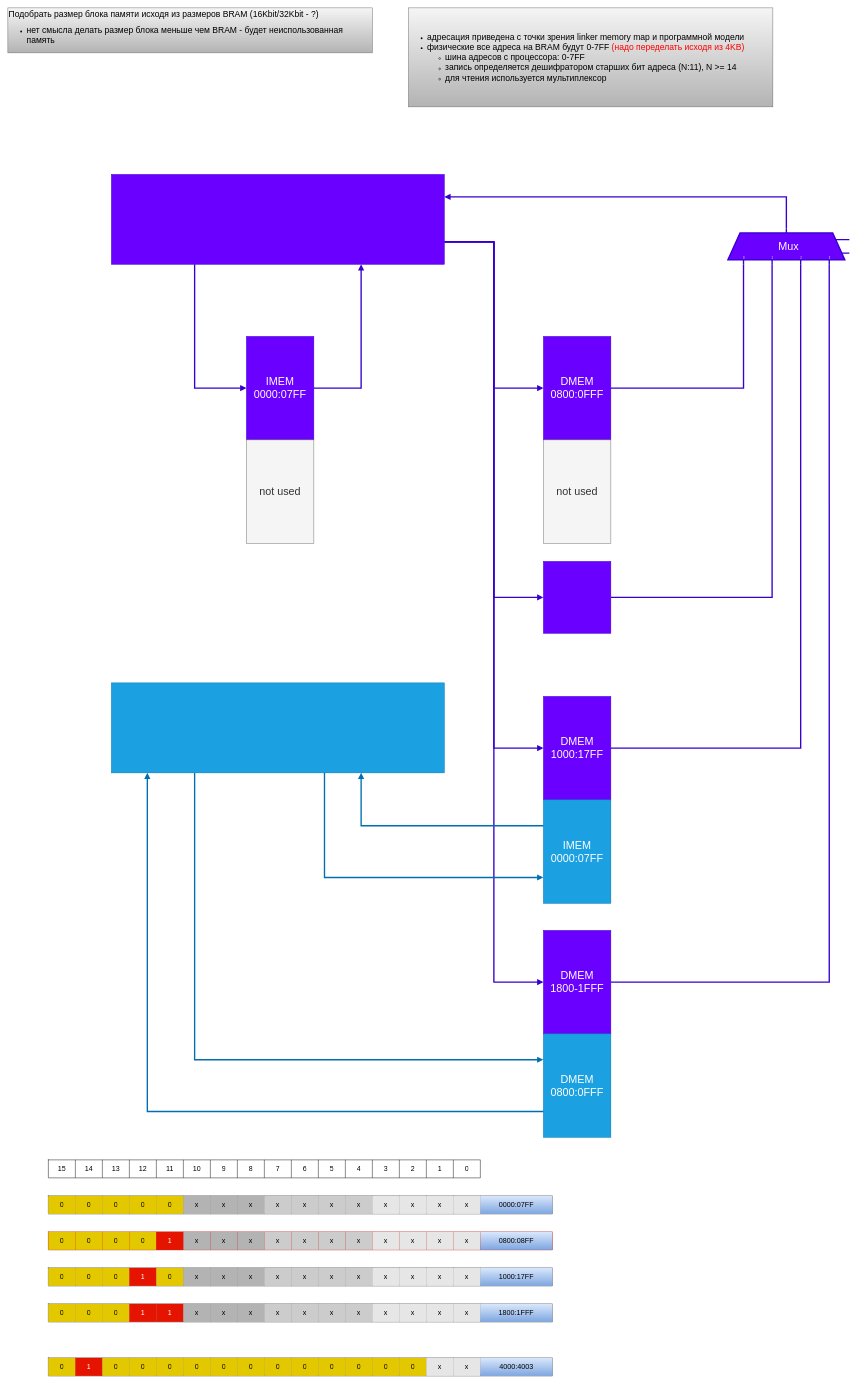
Some shapes in this 858 by 1384 pixel diagram are drawn without their labels. The shapes that lost their labels are listed below. From the top down, each one's box as (x1, y1, x2, y2) in pixels, then its label:
(111, 174, 444, 264): loader CPU
(543, 561, 611, 633): UART I/O 4000:4003
(111, 682, 444, 773): main CPU
